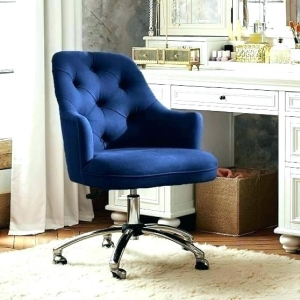chair: (52, 51, 217, 281)
